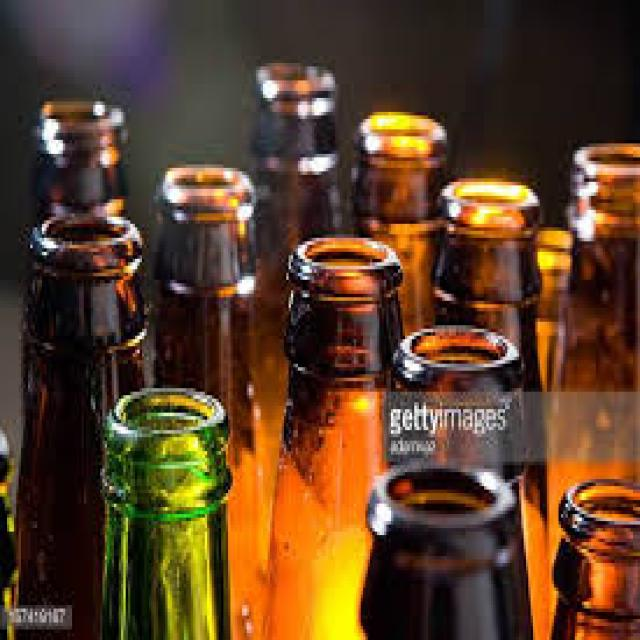glass: (254, 231, 405, 636), (14, 214, 142, 637), (151, 161, 256, 629), (542, 140, 638, 636), (96, 385, 231, 637), (356, 458, 524, 637), (384, 322, 521, 504), (256, 59, 333, 364), (351, 112, 440, 336), (545, 472, 638, 637), (435, 185, 538, 322), (26, 95, 128, 221)
